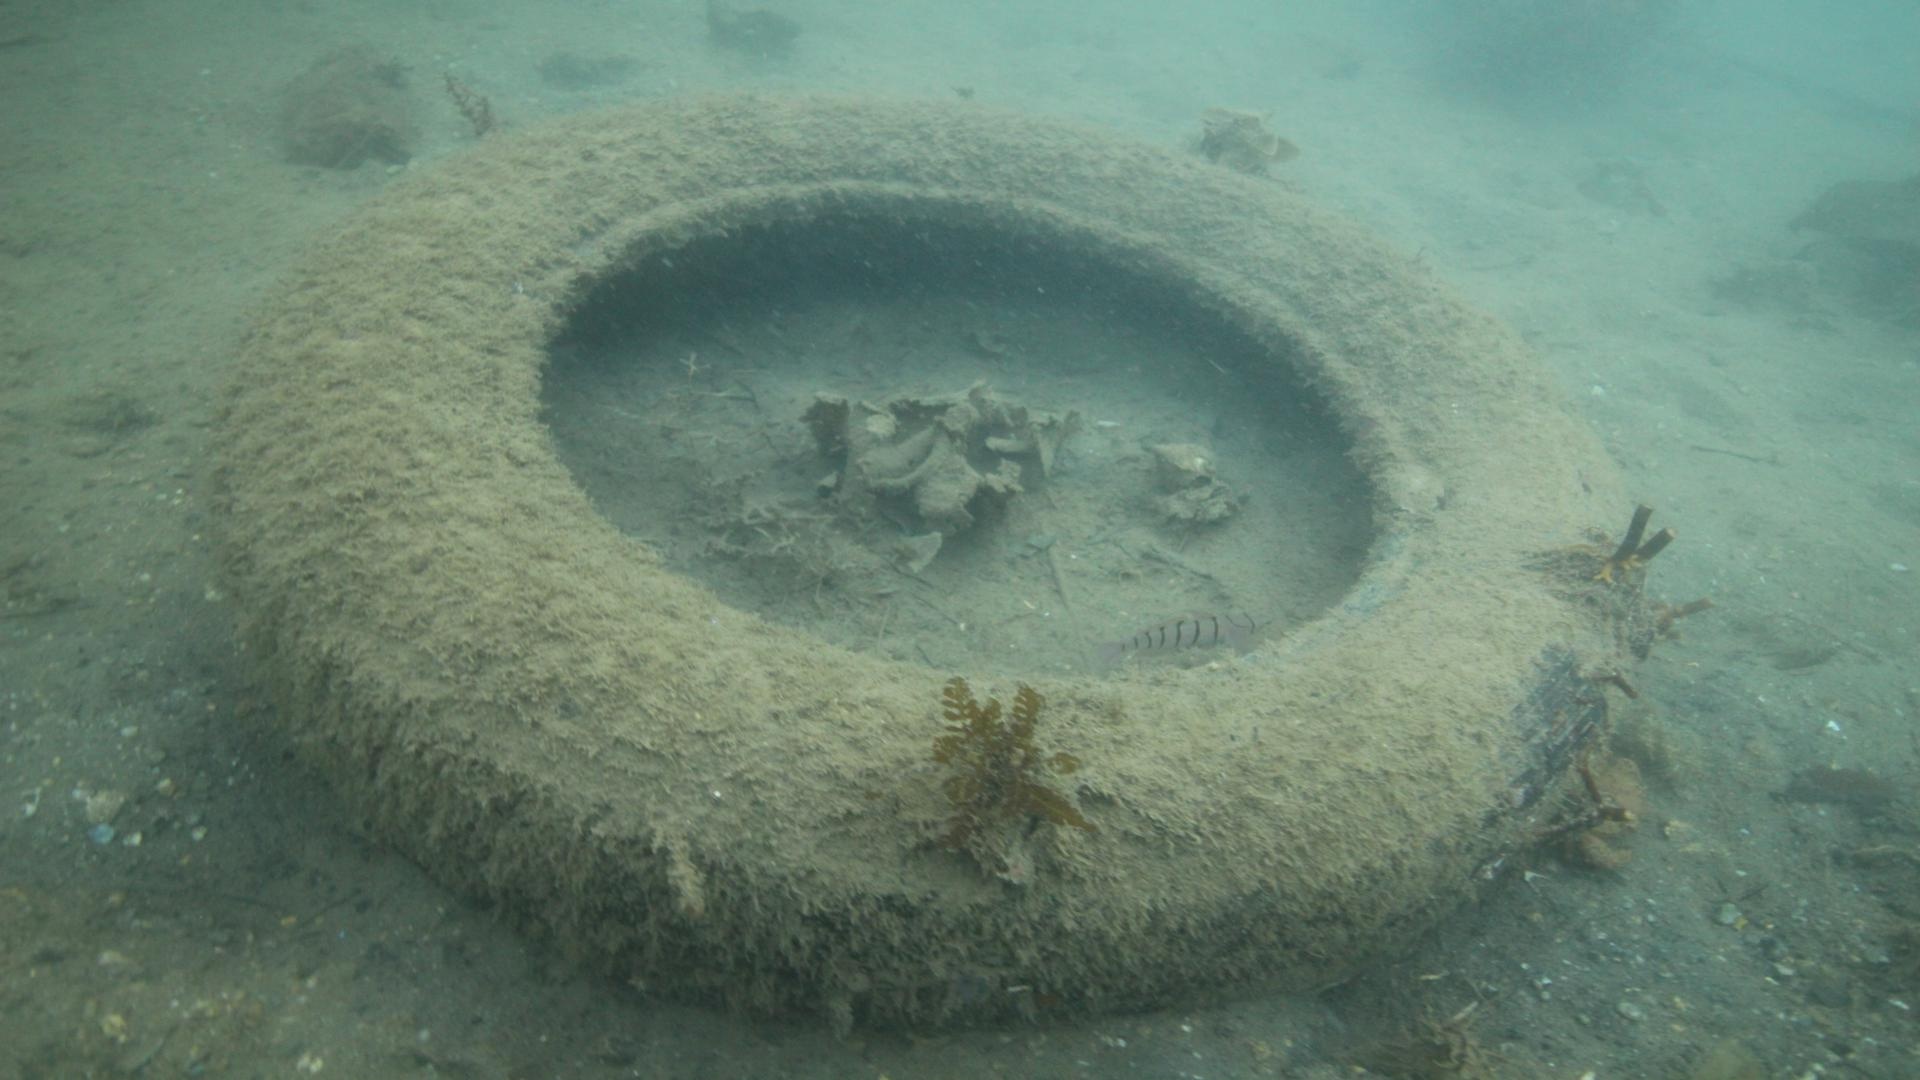tire: (210, 95, 1654, 1033)
